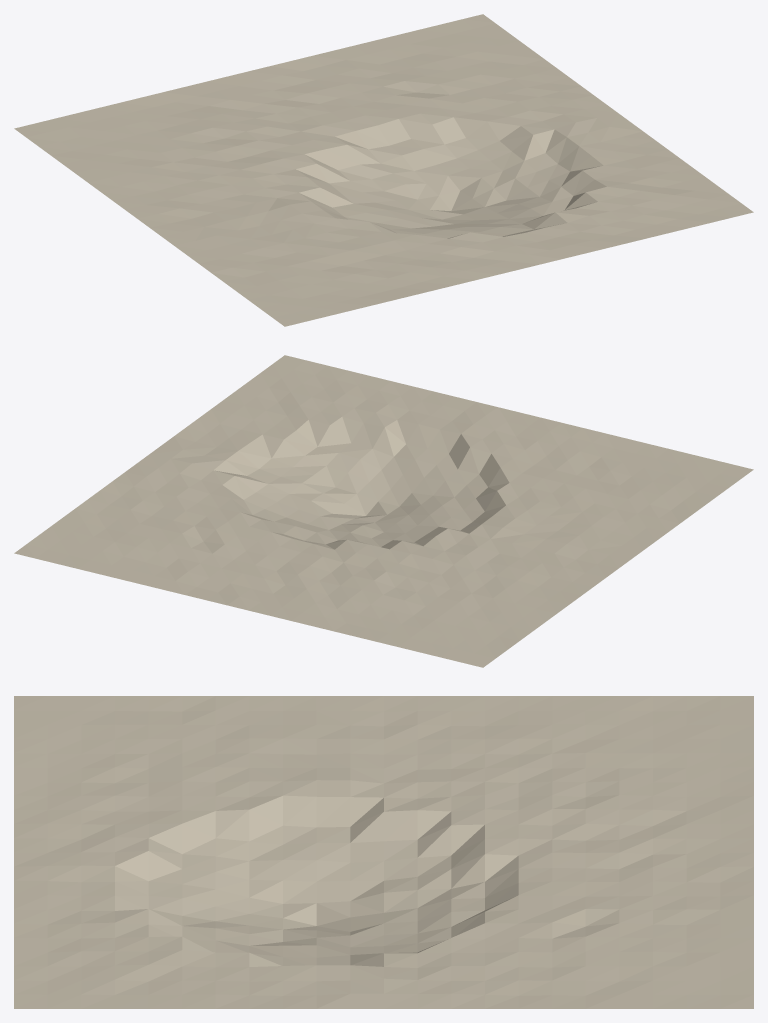
File: Ground_s_04.fbx
The picture shows the model from 3 angles, top to bottom: view 1: azimuth 30°, elevation 25°; view 2: azimuth 150°, elevation 25°; view 3: azimuth 270°, elevation 25°; orthographic projection. The views are drawn at different scales.
Parts seen in each view (by area): view 1: Ground_s_04; view 2: Ground_s_04; view 3: Ground_s_04.
Part boxes in pixels (<box>): Ground_s_04: <box>14,14,753,326</box>; Ground_s_04: <box>14,355,753,667</box>; Ground_s_04: <box>14,696,753,1008</box>.
Bounding box in the file's own units: 5000 × 351 × 5000.
